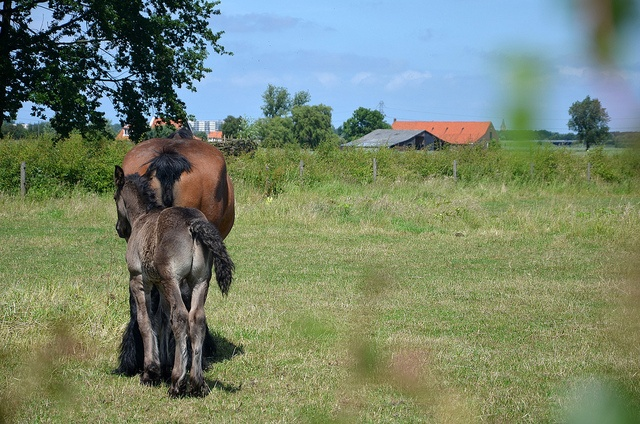horse: (115, 163, 350, 424), (128, 128, 362, 368)
